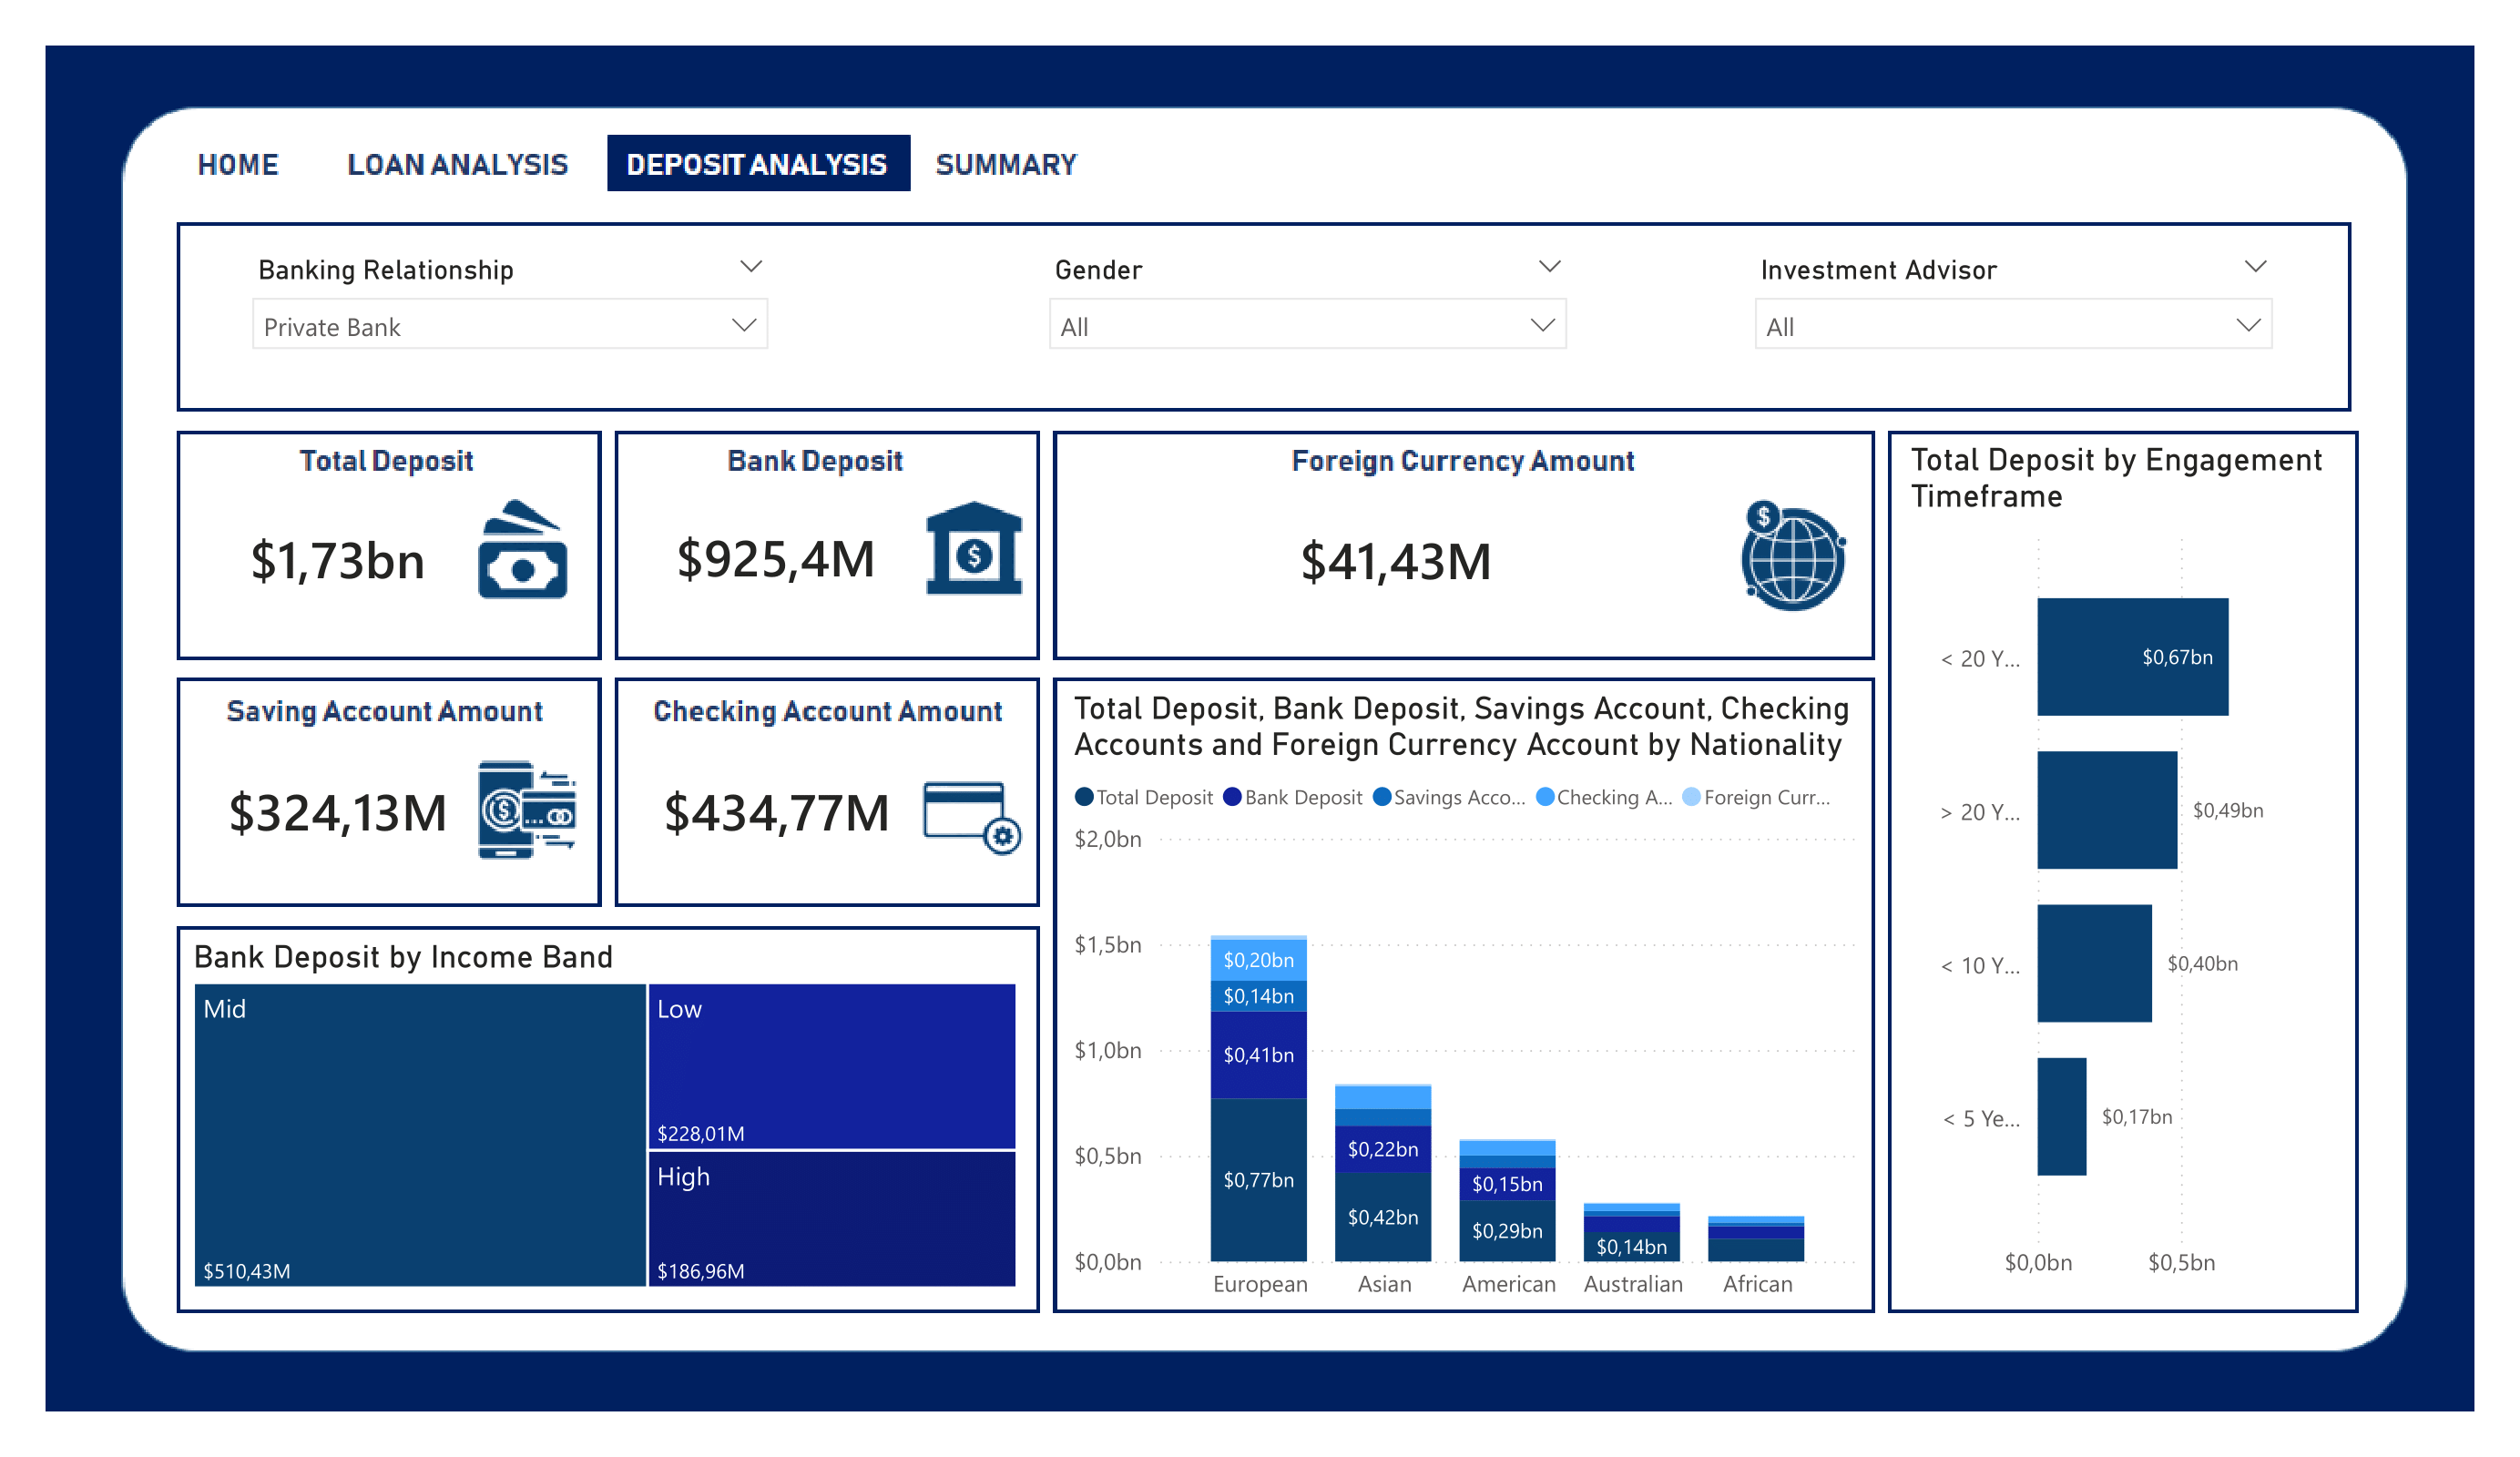

The dashboard page shown, as its layout file describes it:
{"tool":"powerbi","page":{"name":"Deposit Analysis","canvas":[1280,720],"ordinal":2},"visuals":[{"type":"card","fields":{"Values":["DAX Measures.Total Deposit"]},"box":[72.7,226.3,161.8,90.3],"z":0},{"type":"card","fields":{"Values":["DAX Measures.Bank Deposit"]},"box":[299,226.3,172.4,89.1],"z":1000},{"type":"card","fields":{"Values":["DAX Measures.Savings Account"]},"box":[72.7,360,161.8,89.1],"z":2000},{"type":"card","fields":{"Values":["DAX Measures.Checking Accounts"]},"box":[300.2,360,171.2,89.1],"z":3000},{"type":"slicer","fields":{"Values":["Banking Relationship.Banking Relationship"]},"box":[98.5,105.2,292.9,75.7],"z":4000},{"type":"slicer","fields":{"Values":["Gender.Gender"]},"box":[518.9,105.2,292.9,75.7],"z":5000},{"type":"slicer","fields":{"Values":["Investment Advisor.Investment Advisor"]},"box":[891.3,105.2,292.9,75.7],"z":6000},{"type":"card","fields":{"Values":["DAX Measures.Foreign Currency Account"]},"box":[537.1,227.5,349.4,89.1],"z":7000},{"type":"treemap","fields":{"Group":["Clients - Banking.Income Band"],"Values":["DAX Measures.Bank Deposit"]},"box":[72.7,470.2,444.4,190],"z":8000},{"type":"columnChart","fields":{"Category":["Clients - Banking.Nationality"],"Y":["DAX Measures.Total Deposit","DAX Measures.Bank Deposit","DAX Measures.Savings Account","DAX Measures.Checking Accounts","DAX Measures.Foreign Currency Account"]},"box":[537.1,338.9,423.3,331.9],"z":9000},{"type":"clusteredBarChart","fields":{"Category":["Clients - Banking.Engagement Timeframe"],"Y":["DAX Measures.Total Deposit"]},"box":[978,207.6,234.5,452.6],"z":10000},{"type":"actionButton","box":[72.8,44.2,58.5,31],"z":12000},{"type":"actionButton","box":[160,44.2,119.4,31],"z":13000},{"type":"actionButton","box":[471.6,44.2,83.6,31],"z":14000}]}

Visuals, with their boxes in screenshot pixels (x1, y1, x2, y2):
card - DAX Measures.Total Deposit: bbox=(183, 474, 491, 647)
card - DAX Measures.Bank Deposit: bbox=(613, 474, 940, 644)
card - DAX Measures.Savings Account: bbox=(183, 728, 491, 898)
card - DAX Measures.Checking Accounts: bbox=(615, 728, 940, 898)
slicer - Banking Relationship.Banking Relationship: bbox=(232, 245, 789, 389)
slicer - Gender.Gender: bbox=(1030, 245, 1586, 389)
slicer - Investment Advisor.Investment Advisor: bbox=(1737, 245, 2292, 389)
card - DAX Measures.Foreign Currency Account: bbox=(1065, 477, 1728, 647)
treemap - Clients - Banking.Income Band x DAX Measures.Bank Deposit: bbox=(183, 938, 1026, 1298)
columnChart - Clients - Banking.Nationality x DAX Measures.Total Deposit: bbox=(1065, 688, 1868, 1319)
clusteredBarChart - Clients - Banking.Engagement Timeframe x DAX Measures.Total Deposit: bbox=(1902, 439, 2346, 1298)
actionButton: bbox=(184, 129, 295, 188)
actionButton: bbox=(349, 129, 576, 188)
actionButton: bbox=(941, 129, 1099, 188)
